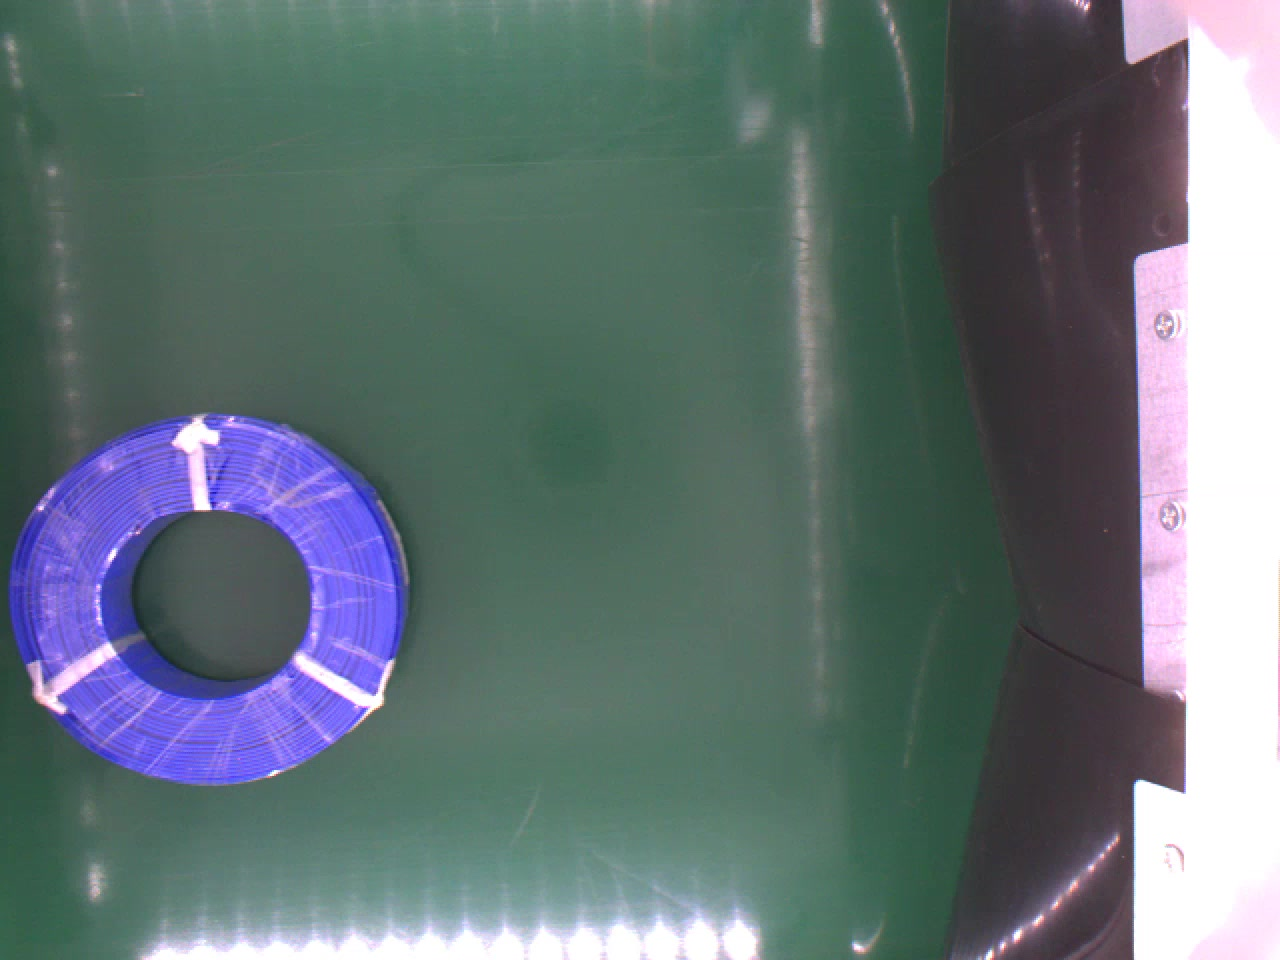blue: (12, 408, 411, 782)
